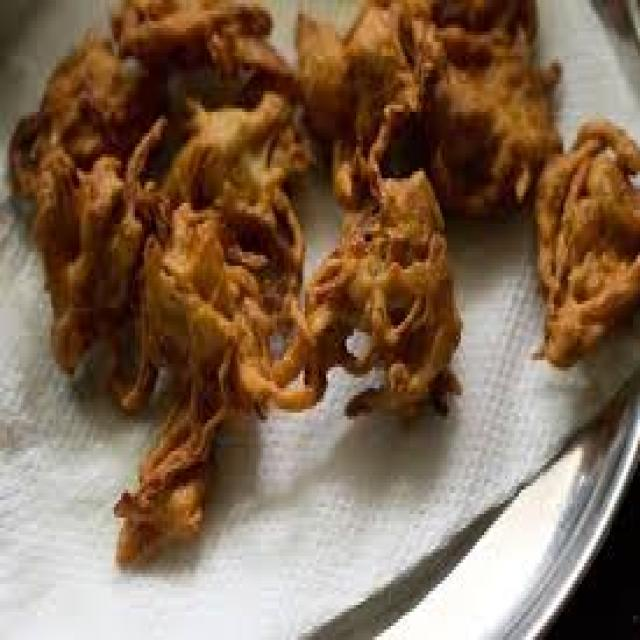BAJI: (8, 0, 638, 558)
